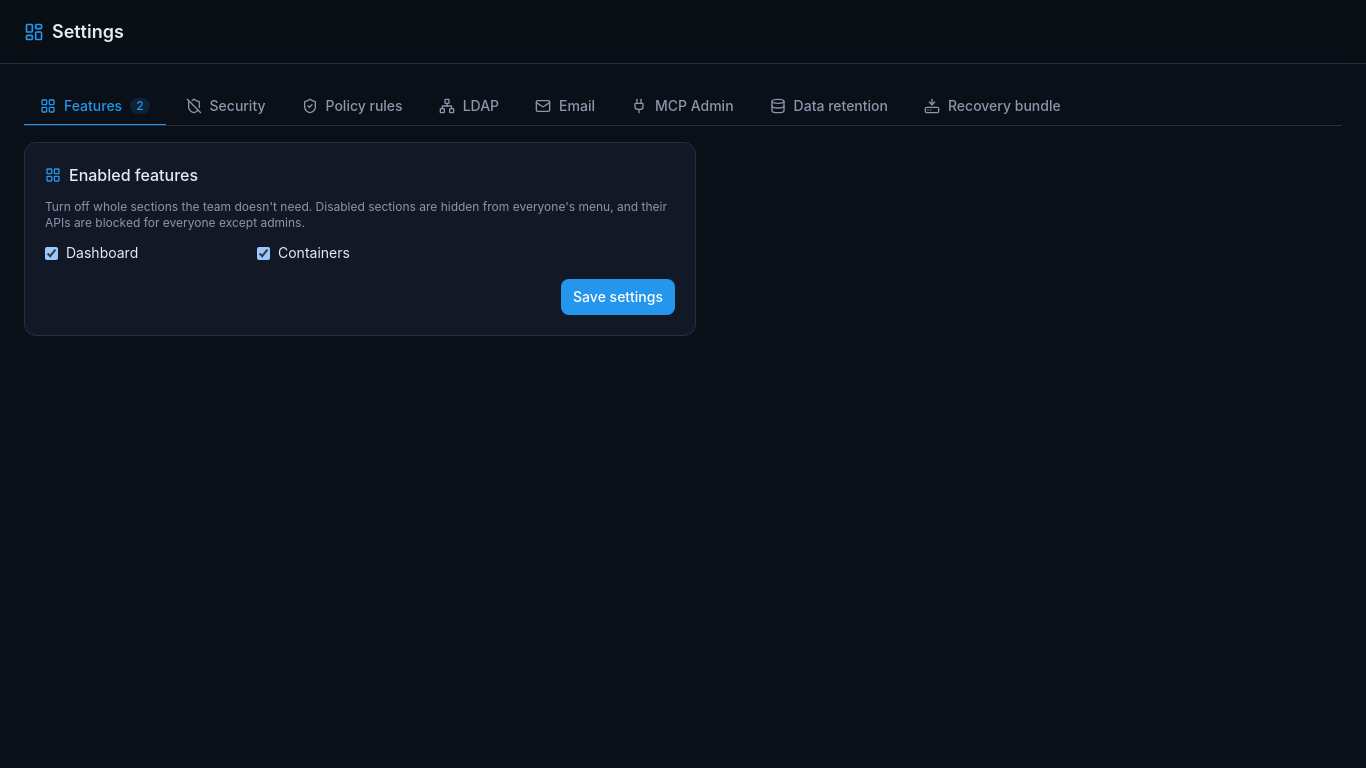
Test case: Settings save feedback › does not carry the Features message over to Security
The image size is (1366, 768).
Click the button "Save settings". click: (618, 297)
box: [561,279,675,315]
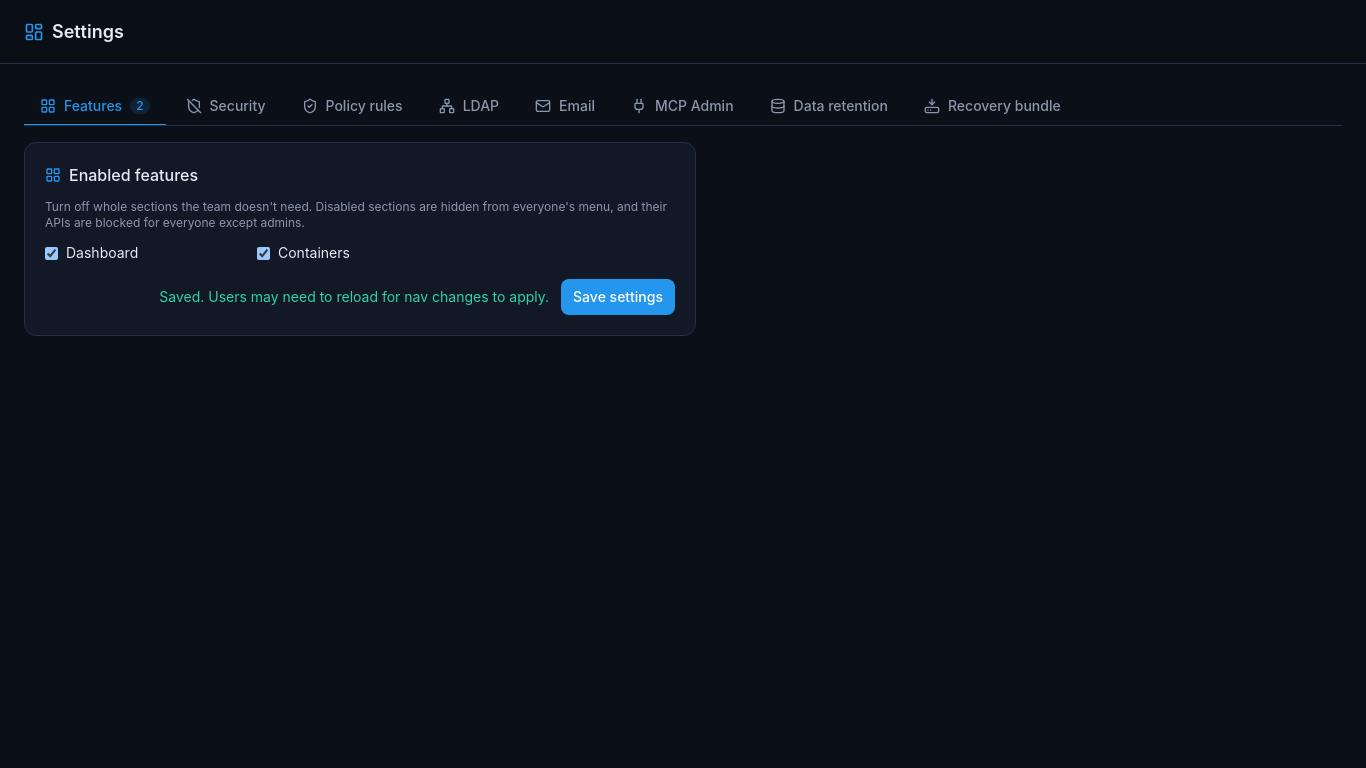
Now the text "nav changes" is shown, box [159,288,549,305]
Click the button "Security". click: (226, 107)
box: [170,88,282,126]
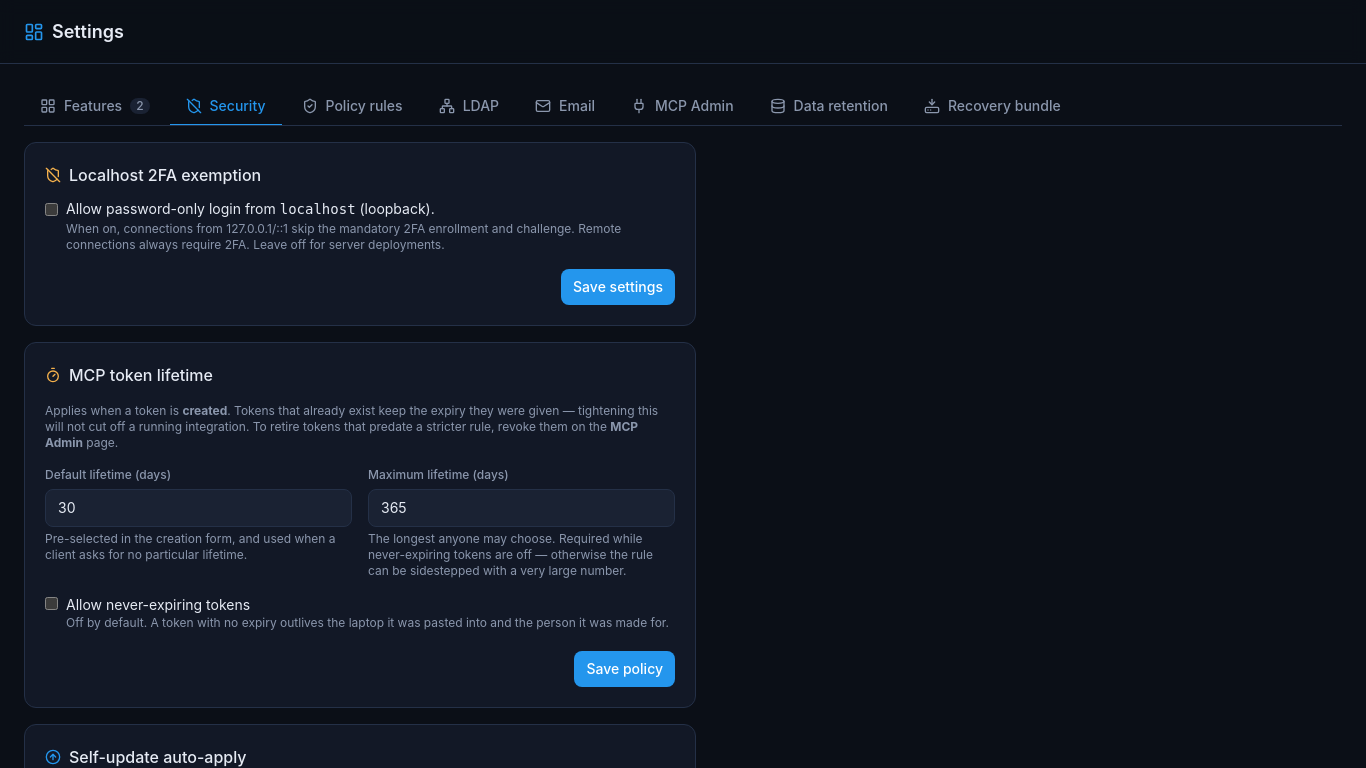
Now the text "nav changes" is gone
Now the text "Saved." is gone
